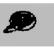correct: (3, 8, 37, 35)
